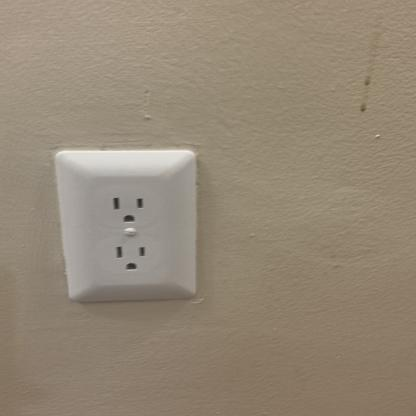OUTLET: (53, 148, 202, 304)
